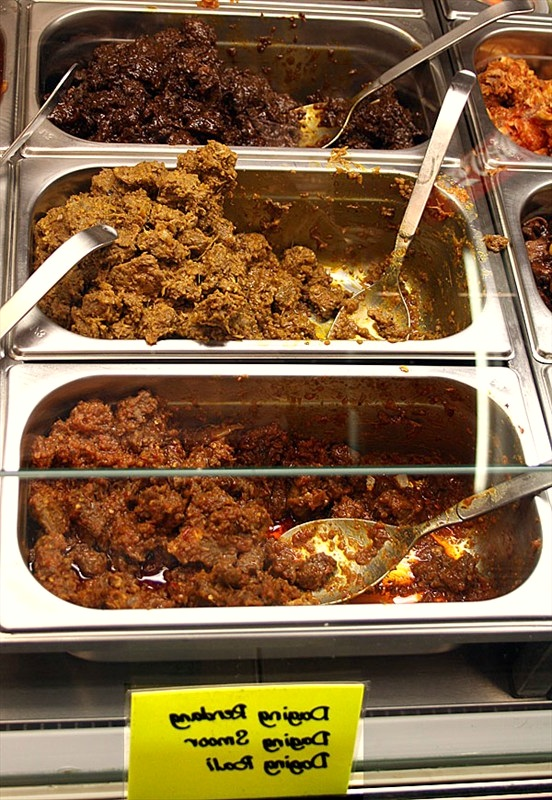Rendang: (57, 125, 502, 768)
